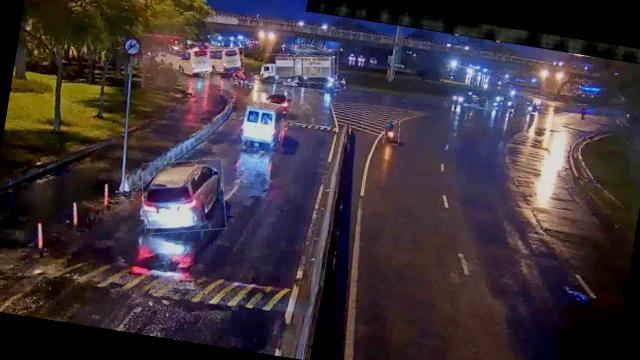Bike: (382, 120, 400, 145)
Bus: (238, 99, 284, 148), (205, 44, 246, 76), (179, 47, 211, 75)
Car: (135, 150, 233, 241), (264, 87, 294, 110)
Truck: (261, 47, 339, 90)
